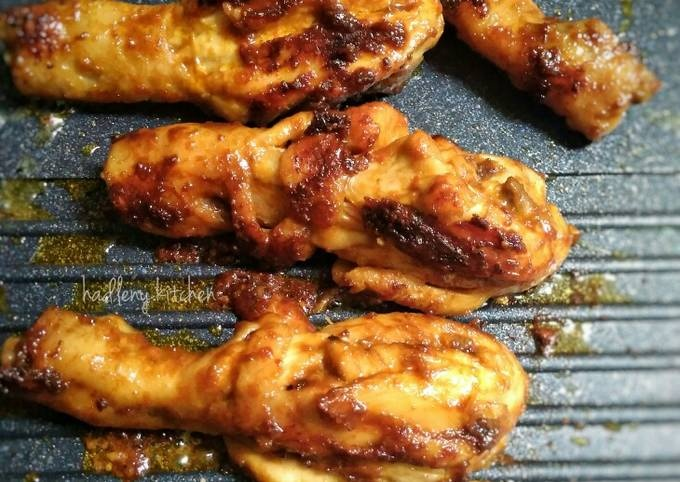ayam_goreng: (17, 294, 527, 482)
